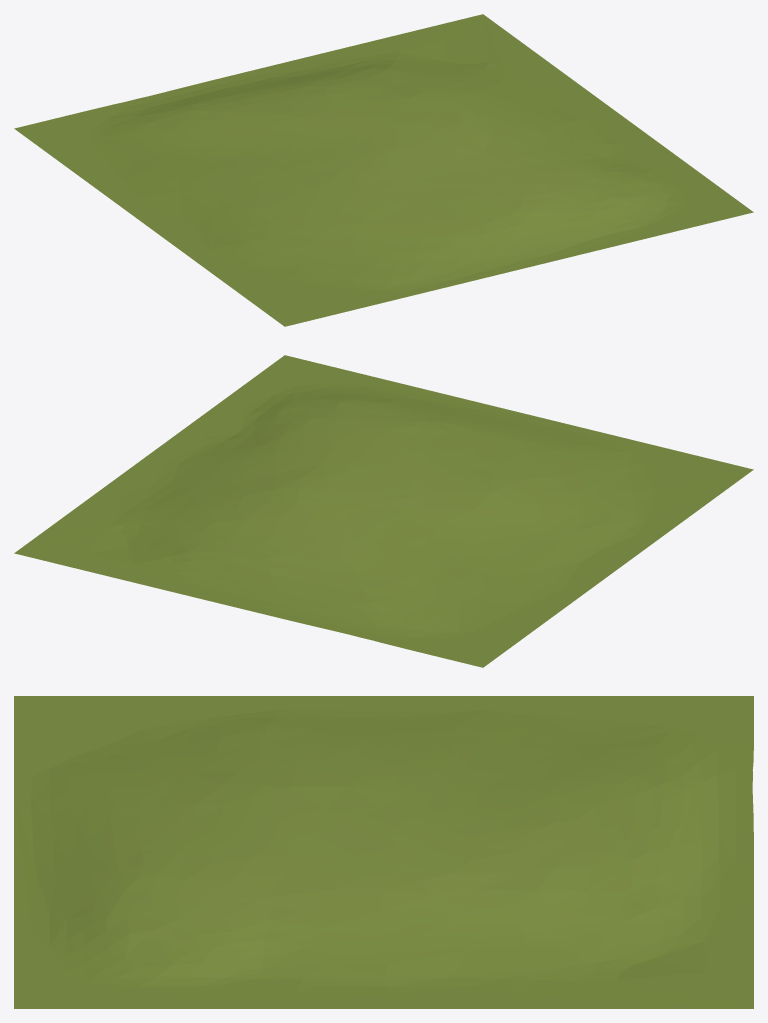
File: Terrain_06.fbx
3 views of the same model, one above another, from view 1: azimuth 30°, elevation 25°; view 2: azimuth 150°, elevation 25°; view 3: azimuth 270°, elevation 25° (orthographic). The views are drawn at different scales.
Parts seen in each view (by area): view 1: Terrain_06; view 2: Terrain_06; view 3: Terrain_06.
Boxes of the visible parts, x1,y1,x2,y2 form: Terrain_06: (14,14,753,326); Terrain_06: (14,355,753,667); Terrain_06: (14,696,753,1008).
Size of the model in its own units: 128 by 4.06 by 128.
